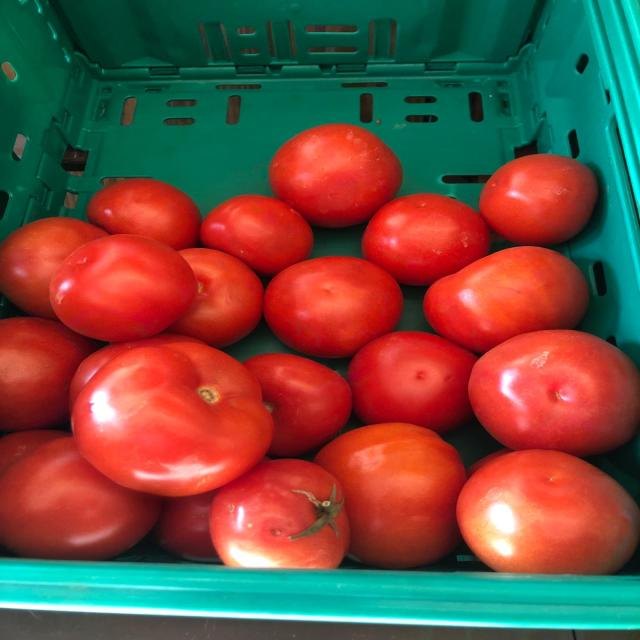tomato: (61, 324, 280, 499), (444, 304, 640, 466), (196, 449, 356, 577), (259, 116, 413, 234), (344, 317, 487, 438), (262, 250, 409, 358), (43, 227, 192, 331), (469, 146, 611, 251), (361, 181, 495, 284)
